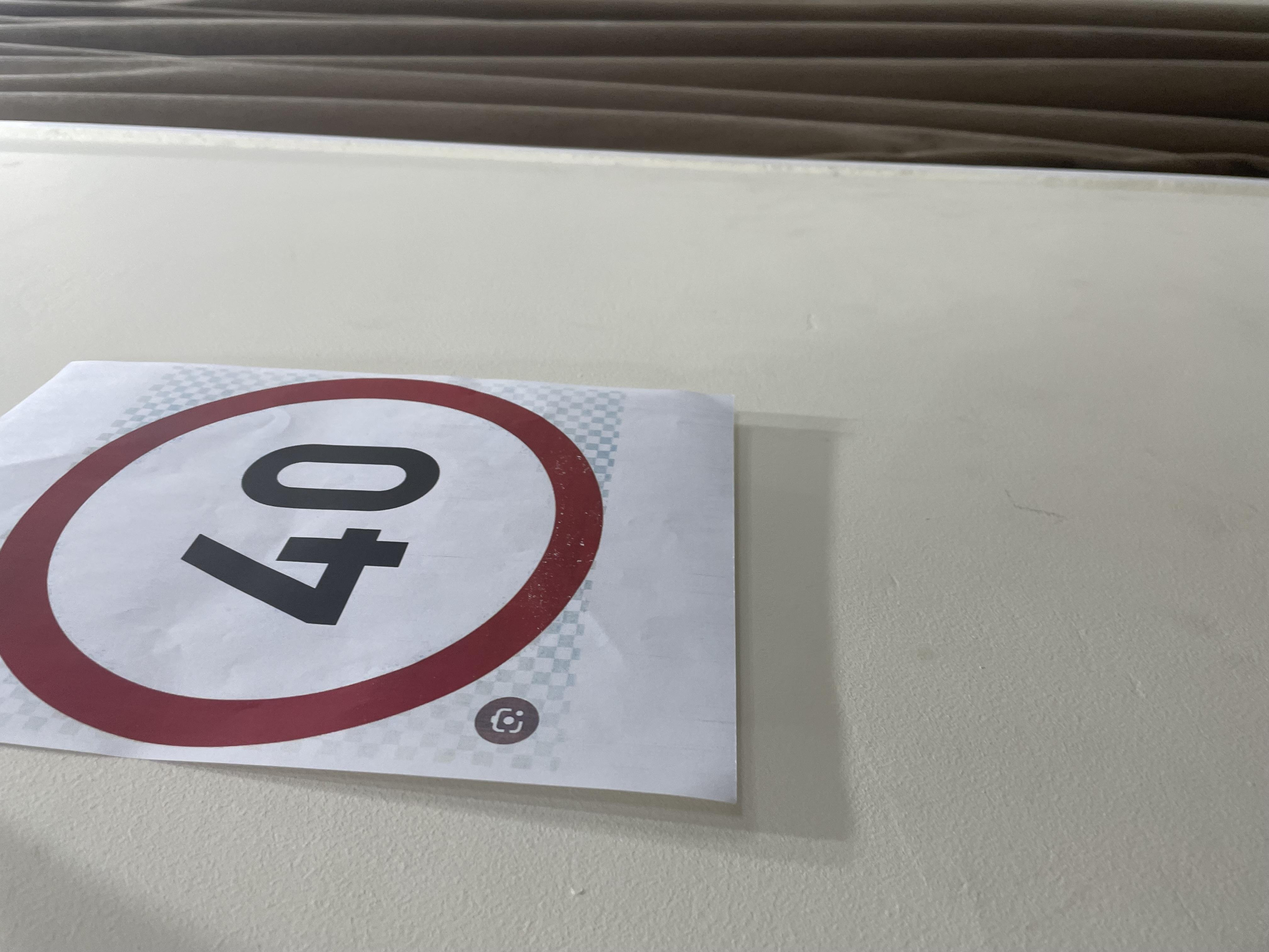40-Speed: (269, 10, 791, 458)
